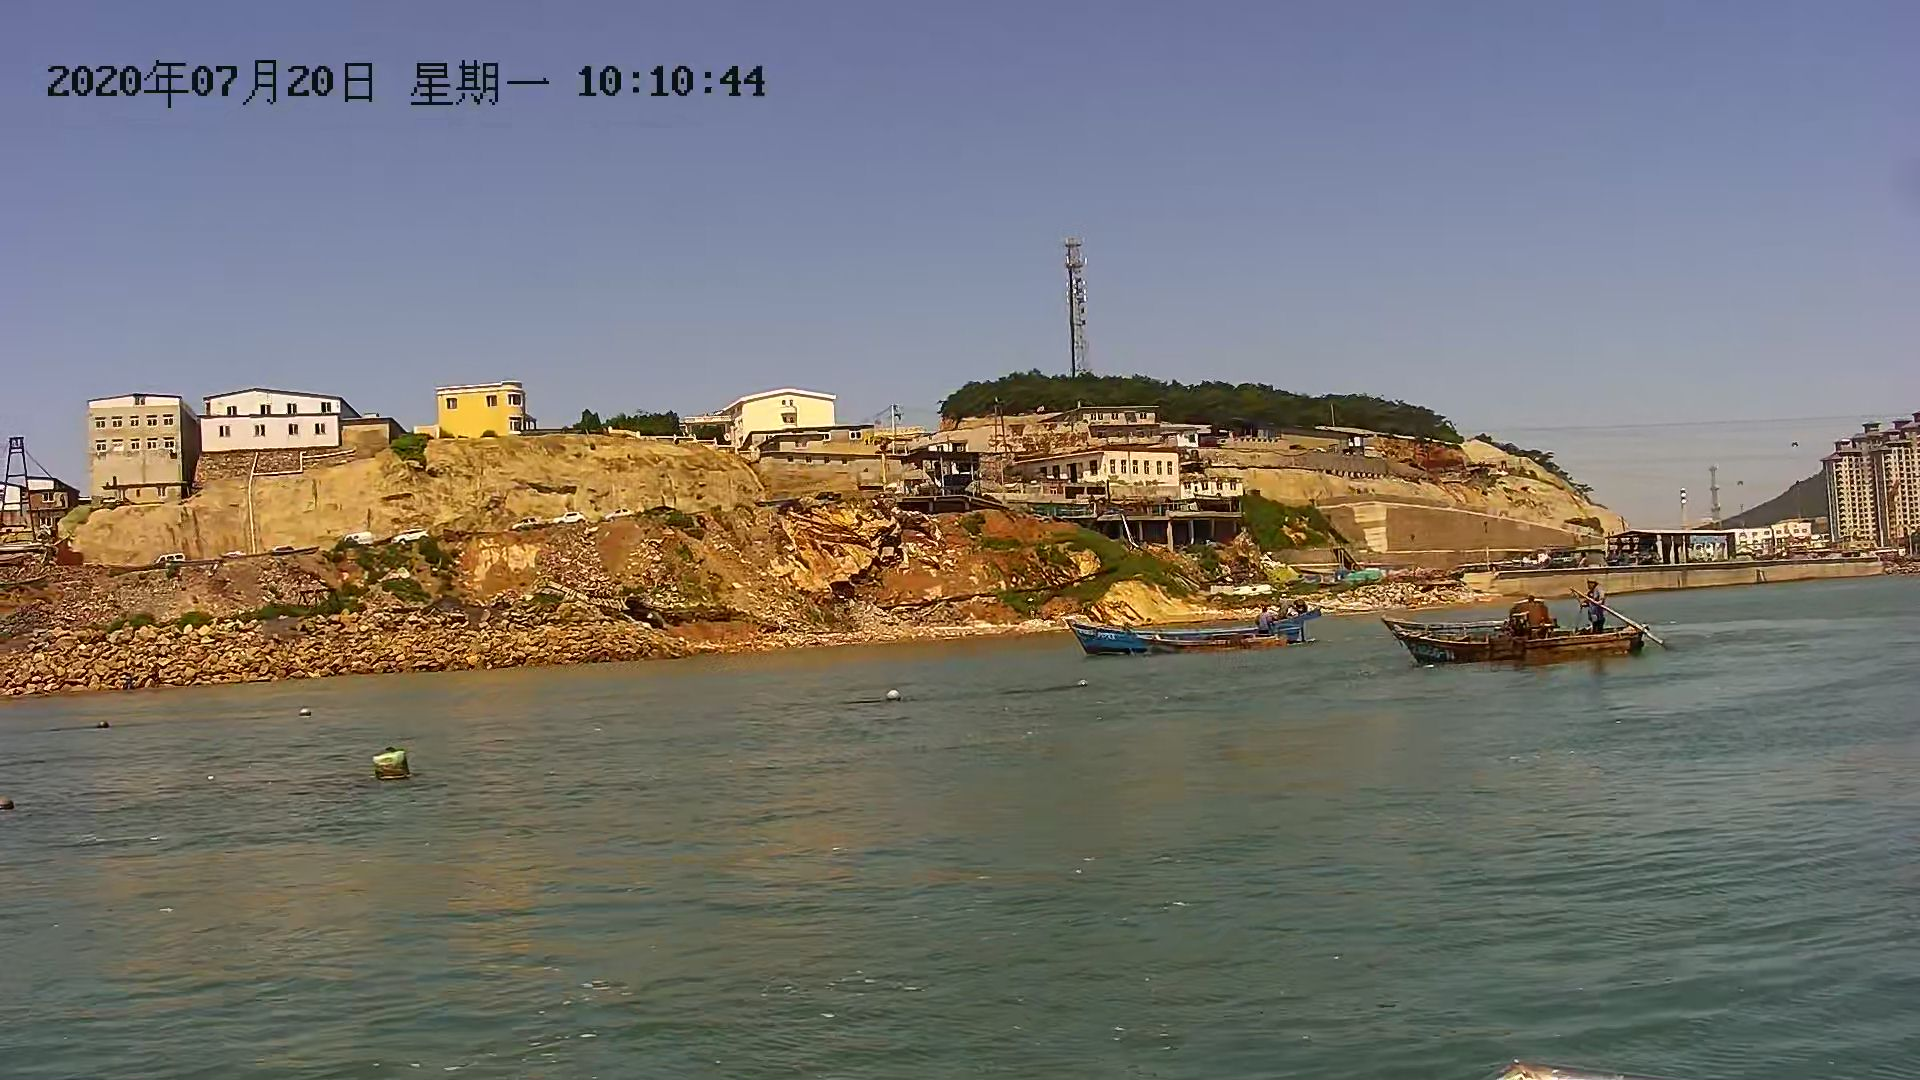boat: (1382, 620, 1656, 669), (1063, 616, 1312, 659)
person: (1582, 578, 1609, 645)
rubbish: (366, 742, 415, 791)
